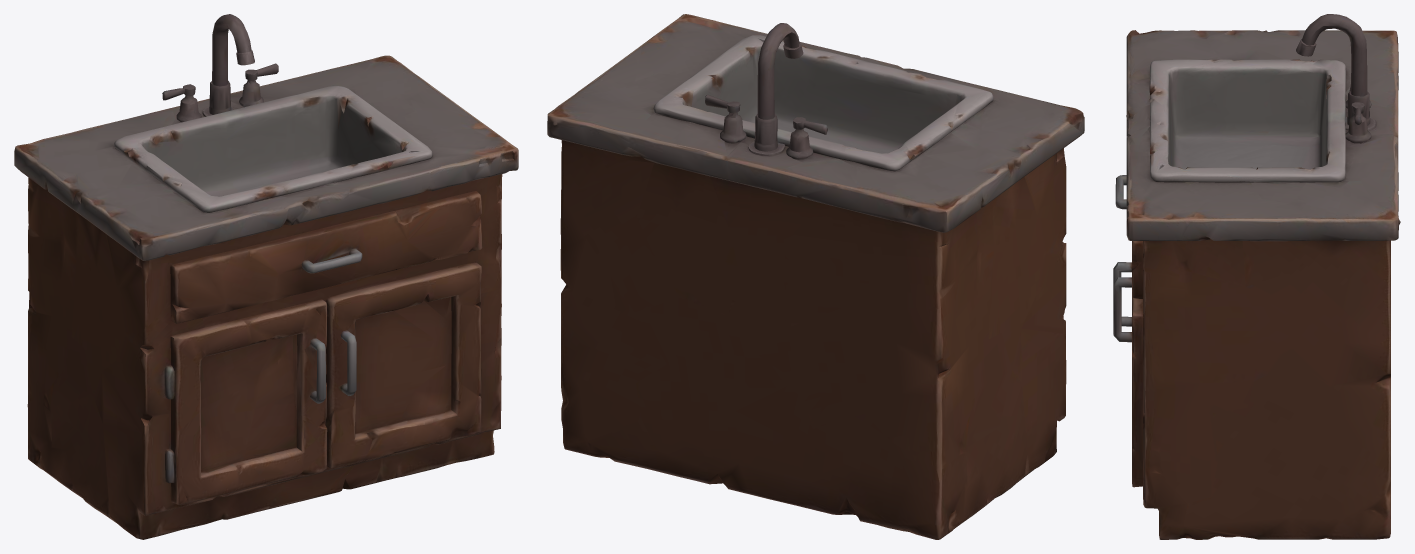
File: kitchen_counter_s_rakovinoy.glb
3 renders of one model, left to right at view 1: azimuth 30°, elevation 25°; view 2: azimuth 150°, elevation 25°; view 3: azimuth 270°, elevation 25°, orthographic. The views are drawn at different scales.
Visible parts, largest first — view 1: body, door_r, door_l; view 2: body; view 3: body, door_r, door_l.
Part boxes in pixels (x1,y1,x2,y2): body: [14, 14, 518, 539]; door_r: [324, 262, 478, 462]; door_l: [175, 298, 327, 499]; body: [547, 14, 1084, 539]; body: [1115, 14, 1400, 539]; door_r: [1113, 277, 1142, 467]; door_l: [1113, 262, 1131, 326].
Size of the model in its own units: 1.2 by 1.28 by 0.7632.
Materials: 6 (3 with a texture image).
